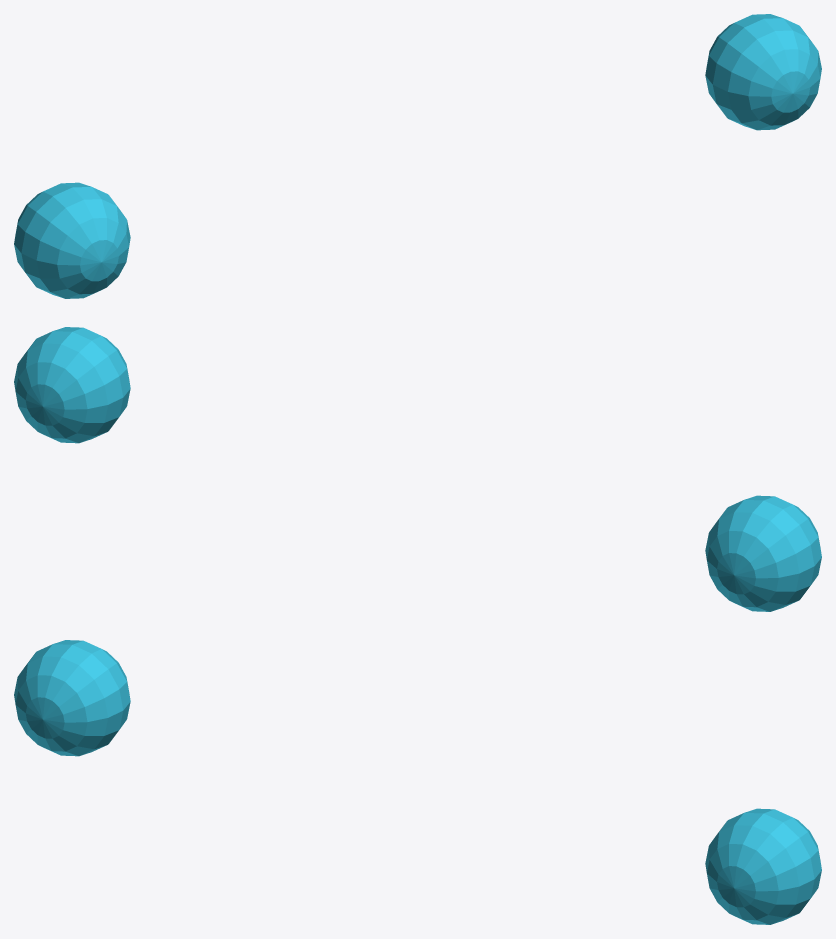
The model's file is twoSpheres.fbx.
3 renders of one model, top to bottom at view 1: azimuth 30°, elevation 25°; view 2: azimuth 150°, elevation 25°; view 3: azimuth 330°, elevation 25°, orthographic.
Parts seen in each view (by area): view 1: Sphere, Sphere.001; view 2: Sphere, Sphere.001; view 3: Sphere, Sphere.001.
Part boxes in pixels (x1,y1,x2,y2): Sphere: [14, 182, 130, 298]; Sphere.001: [705, 14, 821, 130]; Sphere: [705, 495, 821, 611]; Sphere.001: [14, 327, 130, 443]; Sphere: [14, 640, 130, 756]; Sphere.001: [705, 808, 821, 924].
Size of the model in its own units: 1557 by 200 by 200.
